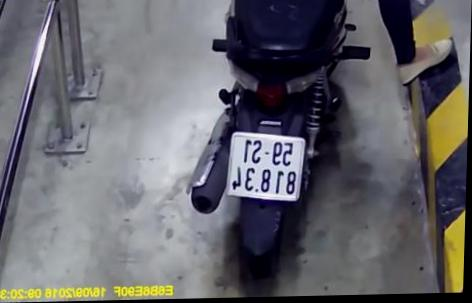License_Plate: (218, 131, 314, 205)
